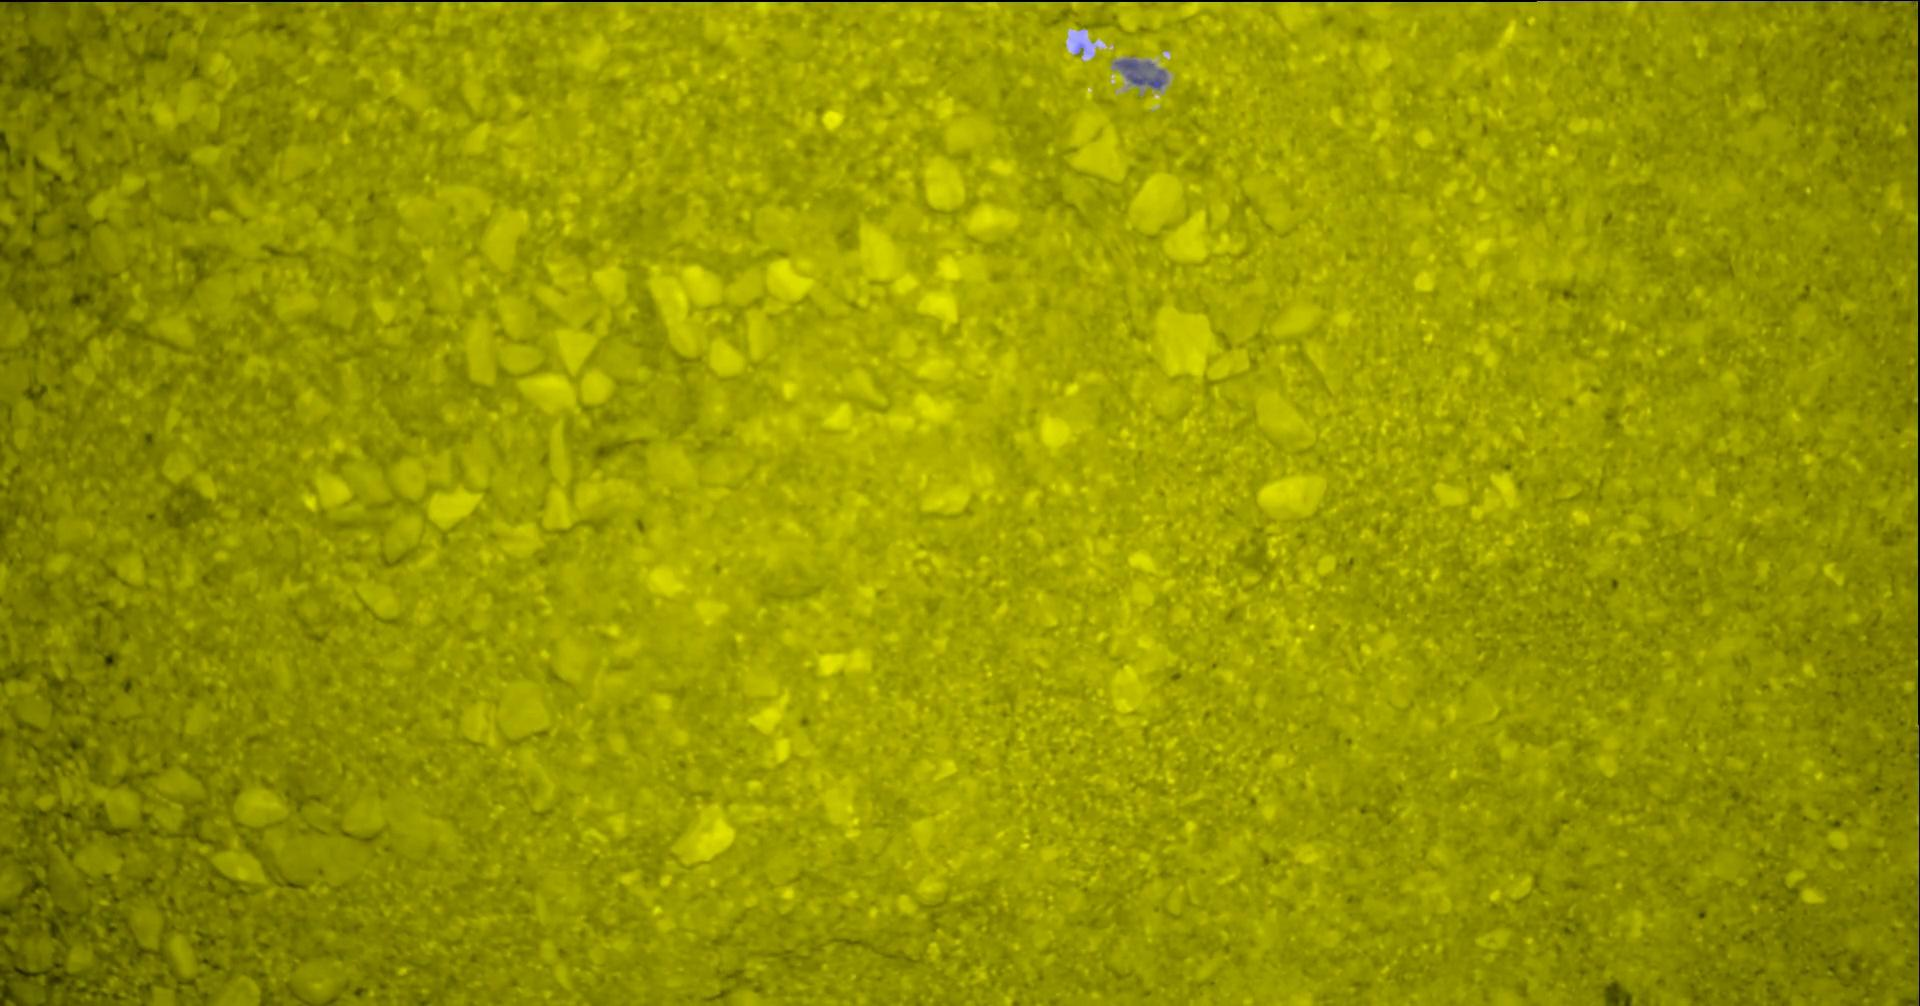ant: (1128, 71, 1162, 86), (1115, 60, 1137, 70)
